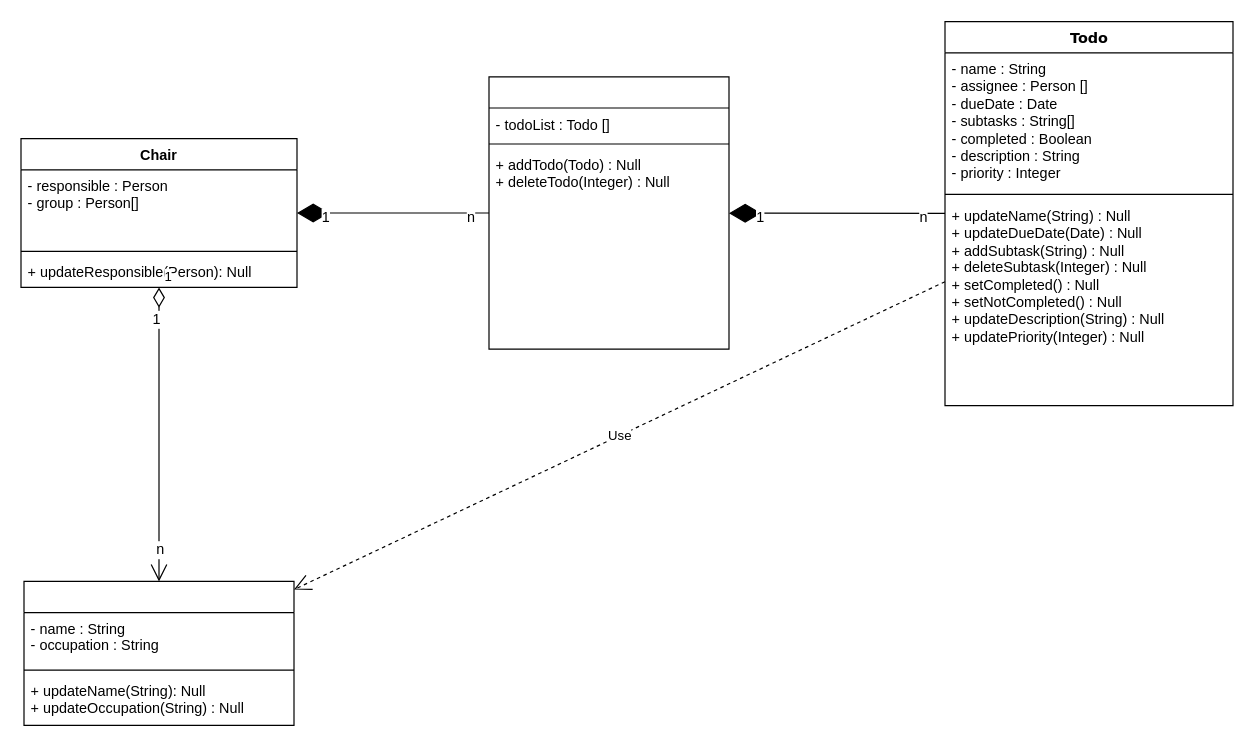
The diagram is 1254 pixels wide and 749 high, and some of its shapes have lost their labels. Each missing label, with the box of its shape:
Person: (23, 580, 294, 725)
TodoView: (488, 76, 729, 349)
